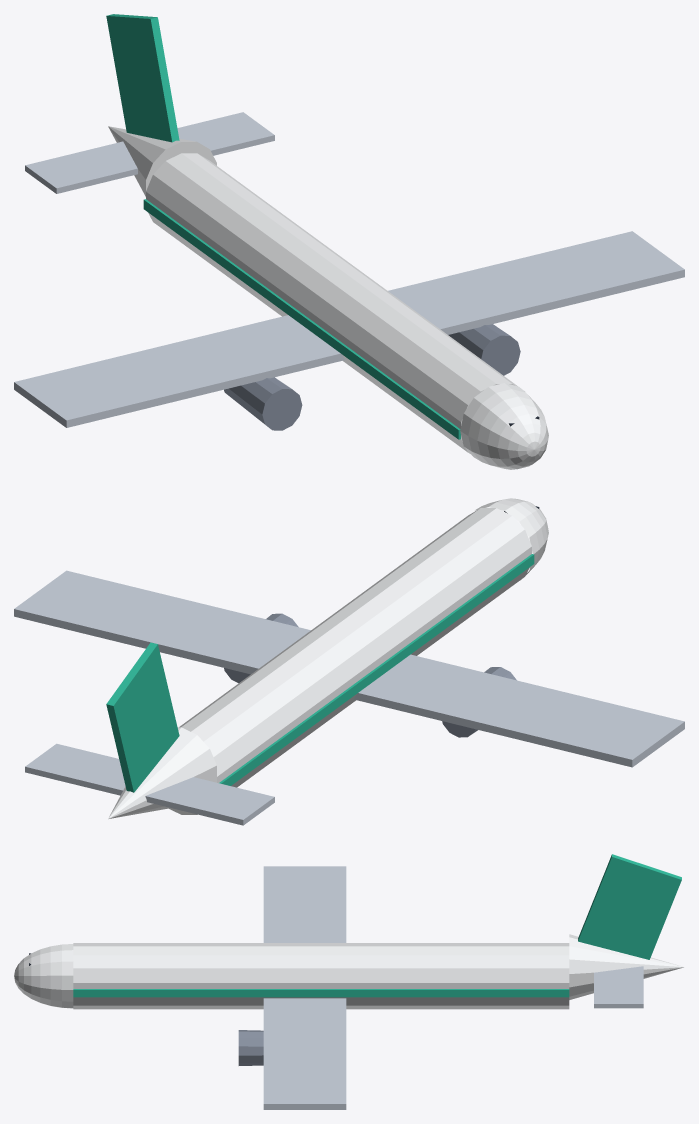
The model's file is airliner.glb.
3 renders of one model, top to bottom at view 1: azimuth 30°, elevation 25°; view 2: azimuth 150°, elevation 25°; view 3: azimuth 270°, elevation 25°, orthographic. The views are drawn at different scales.
Parts seen in each view (by area): view 1: airliner; view 2: airliner; view 3: airliner.
Part boxes in pixels (x1=…): airliner: x1=14, y1=14, x2=684, y2=469; airliner: x1=14, y1=498, x2=684, y2=825; airliner: x1=14, y1=854, x2=684, y2=1109.
Bounding box in the file's own units: 34 × 11.16 × 40.6.
